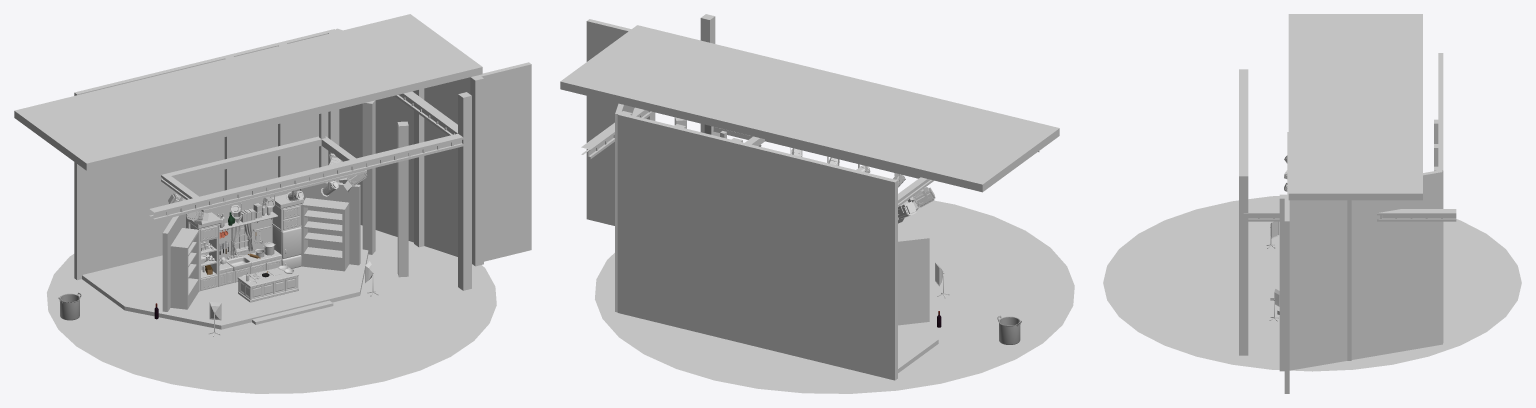
File: Kitchen_Test.glb
3 renders of one model, left to right at view 1: azimuth 30°, elevation 25°; view 2: azimuth 150°, elevation 25°; view 3: azimuth 270°, elevation 25°, orthographic. The views are drawn at different scales.
Parts seen in each view (by area): view 1: Kitchen_Base, Plane.007, Plane.008, Plane.009, Plane.010, Plane.001, TF1_Pillar.009, Cube.008, Plane.006, TF1_Pillar.008, TF1_Pillar.006, Cube.007 (+16 smaller); view 2: Plane.008, Plane.007, Kitchen_Base, Plane.010, Kitchen_Wall.002, TF1_Pillar.002, Plane.001, Plane.006, Plane.009, TF1_Pillar.010, Soup Pot, TF1_Pillar.008; view 3: Kitchen_Base, Plane.007, Plane.009, TF1_Pillar.008, TF1_Pillar.010, Plane.010, TF1_Pillar.006, TF1_Pillar.009, TF1_Pillar.007, Plane.008.
Boxes of the visible parts, left/top/right/bottom form: Kitchen_Base: left=47, top=225, right=496, bottom=393; Plane.007: left=14, top=14, right=482, bottom=170; Plane.008: left=74, top=30, right=330, bottom=280; Plane.009: left=334, top=28, right=478, bottom=256; Plane.010: left=479, top=62, right=531, bottom=261; Plane.001: left=82, top=241, right=368, bottom=329; TF1_Pillar.009: left=149, top=133, right=463, bottom=221; Cube.008: left=301, top=197, right=349, bottom=271; Plane.006: left=161, top=136, right=366, bottom=212; TF1_Pillar.008: left=458, top=92, right=471, bottom=290; TF1_Pillar.006: left=470, top=75, right=483, bottom=266; Cube.007: left=170, top=228, right=198, bottom=309; Plane.008: left=624, top=114, right=897, bottom=380; Plane.007: left=560, top=25, right=1059, bottom=192; Kitchen_Base: left=595, top=200, right=1074, bottom=393; Plane.010: left=586, top=19, right=631, bottom=225; Kitchen_Wall.002: left=898, top=236, right=929, bottom=325; TF1_Pillar.002: left=617, top=111, right=632, bottom=314; Plane.001: left=898, top=296, right=938, bottom=372; Plane.006: left=745, top=136, right=933, bottom=206; Plane.009: left=615, top=103, right=646, bottom=312; TF1_Pillar.010: left=581, top=107, right=654, bottom=158; Soup Pot: left=997, top=315, right=1021, bottom=344; TF1_Pillar.008: left=700, top=14, right=715, bottom=132; Kitchen_Base: left=1103, top=196, right=1521, bottom=371; Plane.007: left=1288, top=14, right=1422, bottom=200; Plane.009: left=1284, top=170, right=1442, bottom=370; TF1_Pillar.008: left=1239, top=172, right=1248, bottom=355; TF1_Pillar.010: left=1243, top=209, right=1456, bottom=221; Plane.010: left=1284, top=197, right=1289, bottom=393; TF1_Pillar.006: left=1279, top=194, right=1288, bottom=371; TF1_Pillar.009: left=1239, top=69, right=1248, bottom=172; TF1_Pillar.007: left=1347, top=200, right=1351, bottom=360; Plane.008: left=1438, top=53, right=1443, bottom=167.
Size of the model in its own units: 28.15 by 11.72 by 24.82.
11 materials, 1 textured.
